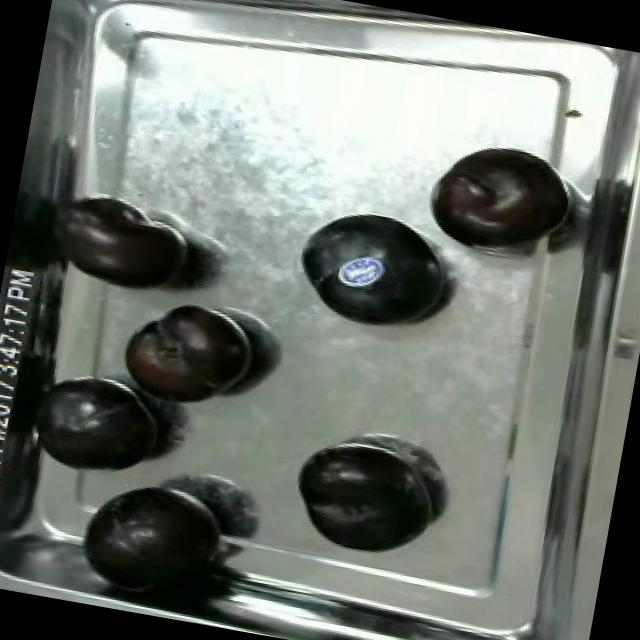Fruit: (283, 193, 461, 343), (106, 284, 272, 428), (13, 355, 180, 497), (278, 432, 446, 564), (37, 183, 208, 310), (420, 134, 576, 266)
